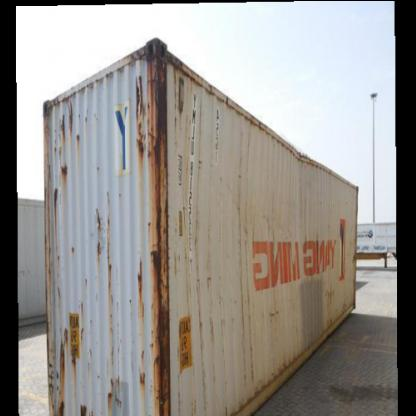Damage: (138, 41, 188, 415), (88, 197, 126, 326), (48, 310, 88, 414), (54, 96, 80, 182), (274, 134, 320, 169), (100, 344, 124, 404), (260, 295, 284, 320)
